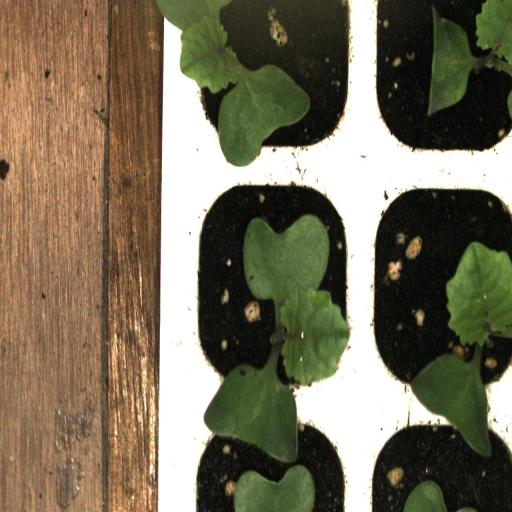seedling: (180, 168, 360, 410), (180, 2, 359, 173)
